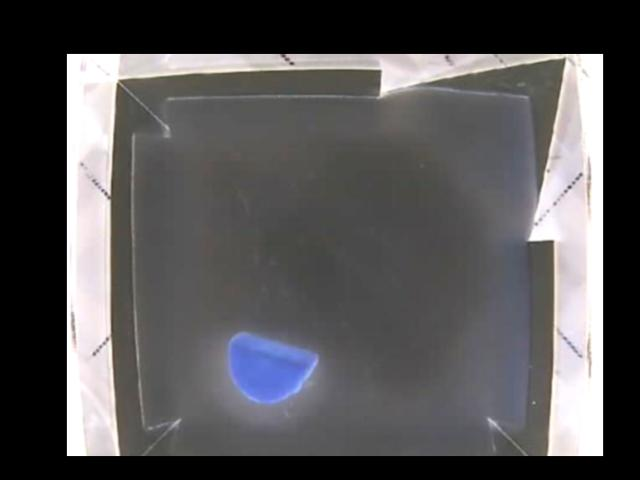Potato: (227, 332, 319, 405)
